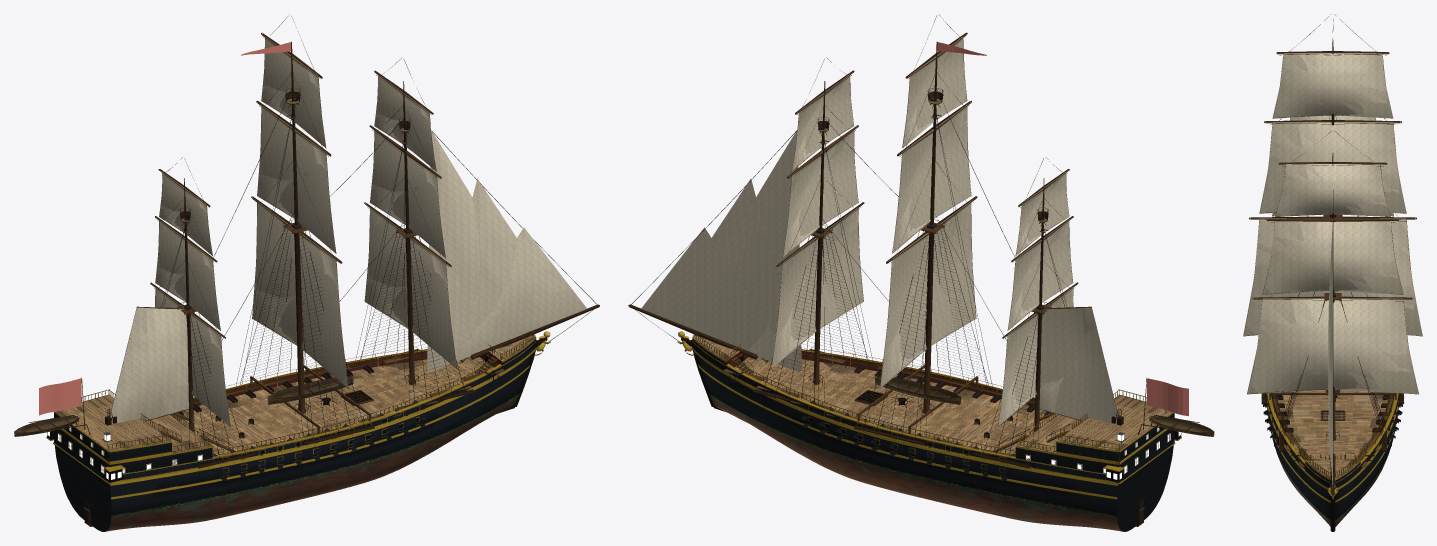
The model's file is battleship.glb.
3 views of the same model, side by side, from view 1: azimuth 30°, elevation 25°; view 2: azimuth 150°, elevation 25°; view 3: azimuth 270°, elevation 25° (orthographic). The views are drawn at different scales.
Parts seen in each view (by area): view 1: LOD0_Body, LOD0_Wood, LOD2_m1_SquareSail, LOD0_Jib, LOD2_m0_SquareSail, LOD2_Body, LOD2_m2_SquareSail, LOD0_m2_AftSail, LOD1_Wood, LOD1_Body, LOD2_Wood, LOD0_m1_SquareSail (+11 smaller); view 2: LOD0_Body, LOD0_Wood, LOD2_m1_SquareSail, LOD2_Jib, LOD2_m0_SquareSail, LOD2_Body, LOD2_m2_SquareSail, LOD2_m2_AftSail, LOD1_Body, LOD1_Wood, LOD2_Wood, LOD0_m1_SquareSail (+11 smaller); view 3: LOD0_m0_SquareSail, LOD0_m1_SquareSail, LOD2_Body, LOD0_Wood, LOD0_Body, LOD1_m0_SquareSail, LOD2_m0_SquareSail, LOD1_m1_SquareSail, LOD2_m1_SquareSail, LOD2_m1_SquareYards, LOD0_Jib, LOD2_m0_SquareYards (+8 smaller).
Part boxes in pixels (x1=…): LOD0_Body: x1=62, y1=91, x2=550, y2=531; LOD0_Wood: x1=14, y1=41, x2=599, y2=531; LOD2_m1_SquareSail: x1=252, y1=38, x2=347, y2=384; LOD0_Jib: x1=427, y1=130, x2=579, y2=372; LOD2_m0_SquareSail: x1=365, y1=75, x2=456, y2=368; LOD2_Body: x1=108, y1=335, x2=535, y2=530; LOD2_m2_SquareSail: x1=156, y1=172, x2=230, y2=425; LOD0_m2_AftSail: x1=110, y1=308, x2=188, y2=424; LOD1_Wood: x1=55, y1=91, x2=598, y2=531; LOD1_Body: x1=56, y1=99, x2=534, y2=531; LOD2_Wood: x1=61, y1=110, x2=536, y2=521; LOD0_m1_SquareSail: x1=252, y1=37, x2=348, y2=388; LOD0_Body: x1=677, y1=93, x2=1166, y2=531; LOD0_Wood: x1=628, y1=41, x2=1214, y2=531; LOD2_m1_SquareSail: x1=881, y1=44, x2=975, y2=385; LOD2_Jib: x1=641, y1=131, x2=799, y2=372; LOD2_m0_SquareSail: x1=773, y1=81, x2=863, y2=364; LOD2_Body: x1=692, y1=335, x2=1120, y2=530; LOD2_m2_SquareSail: x1=999, y1=173, x2=1073, y2=421; LOD2_m2_AftSail: x1=1040, y1=308, x2=1117, y2=423; LOD1_Body: x1=693, y1=99, x2=1171, y2=531; LOD1_Wood: x1=630, y1=91, x2=1173, y2=531; LOD2_Wood: x1=641, y1=112, x2=1167, y2=521; LOD0_m1_SquareSail: x1=880, y1=37, x2=976, y2=388; LOD0_m0_SquareSail: x1=1247, y1=164, x2=1410, y2=393; LOD0_m1_SquareSail: x1=1246, y1=53, x2=1413, y2=334; LOD2_Body: x1=1275, y1=390, x2=1387, y2=526; LOD0_Wood: x1=1261, y1=40, x2=1403, y2=531; LOD0_Body: x1=1263, y1=393, x2=1404, y2=526; LOD1_m0_SquareSail: x1=1247, y1=164, x2=1411, y2=394; LOD2_m0_SquareSail: x1=1248, y1=164, x2=1418, y2=394; LOD1_m1_SquareSail: x1=1243, y1=53, x2=1415, y2=336; LOD2_m1_SquareSail: x1=1244, y1=53, x2=1422, y2=336; LOD2_m1_SquareYards: x1=1250, y1=52, x2=1415, y2=219; LOD0_Jib: x1=1328, y1=219, x2=1332, y2=459; LOD2_m0_SquareYards: x1=1253, y1=162, x2=1412, y2=300.
Size of the model in its own units: 88.28 by 68.45 by 25.27.
Materials: 5 (3 with a texture image).
